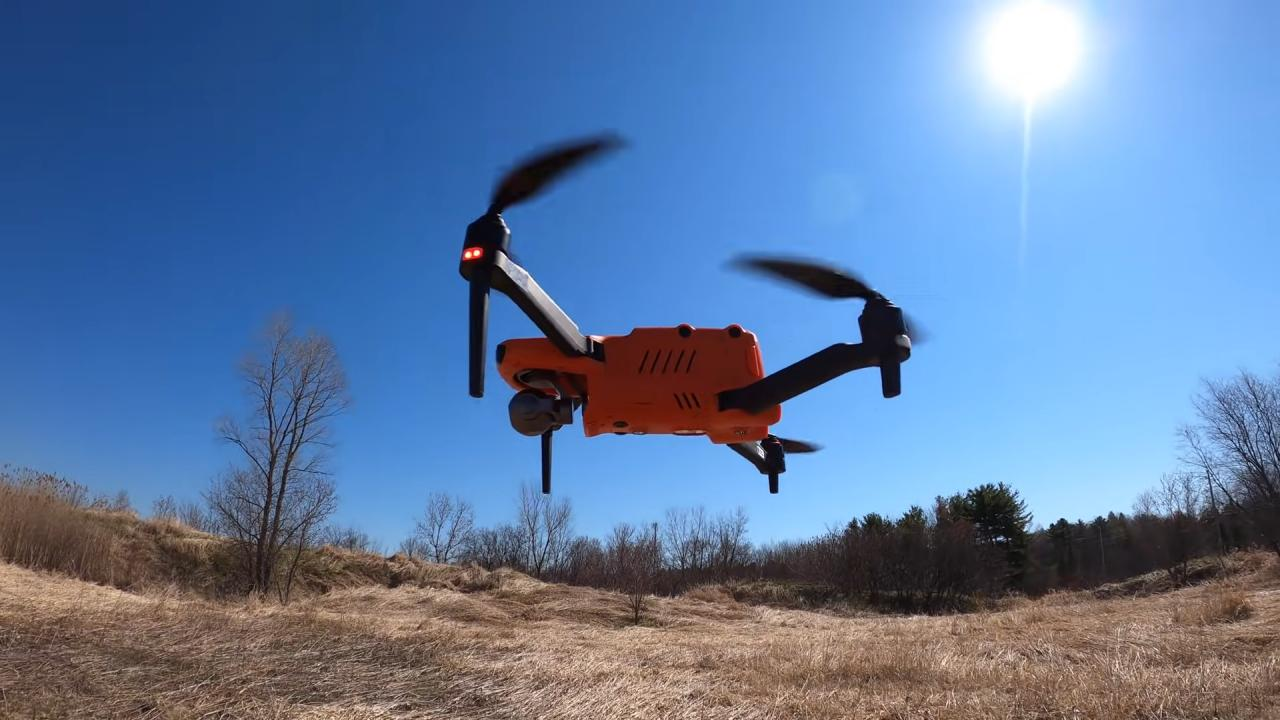Drone: (429, 107, 968, 507)
